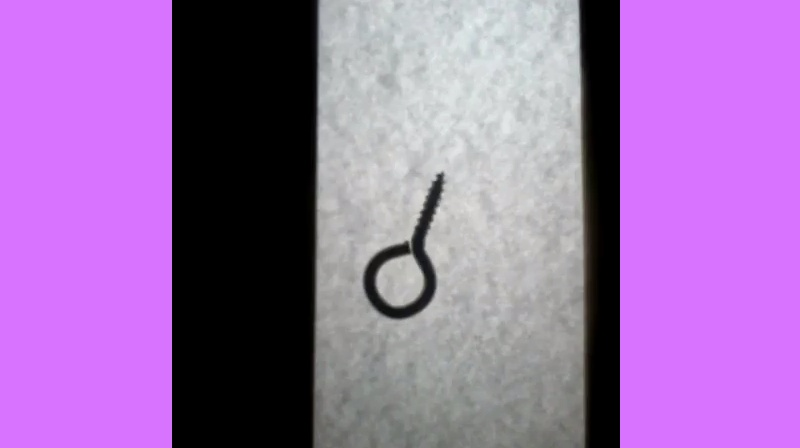O001: (358, 167, 450, 324)
